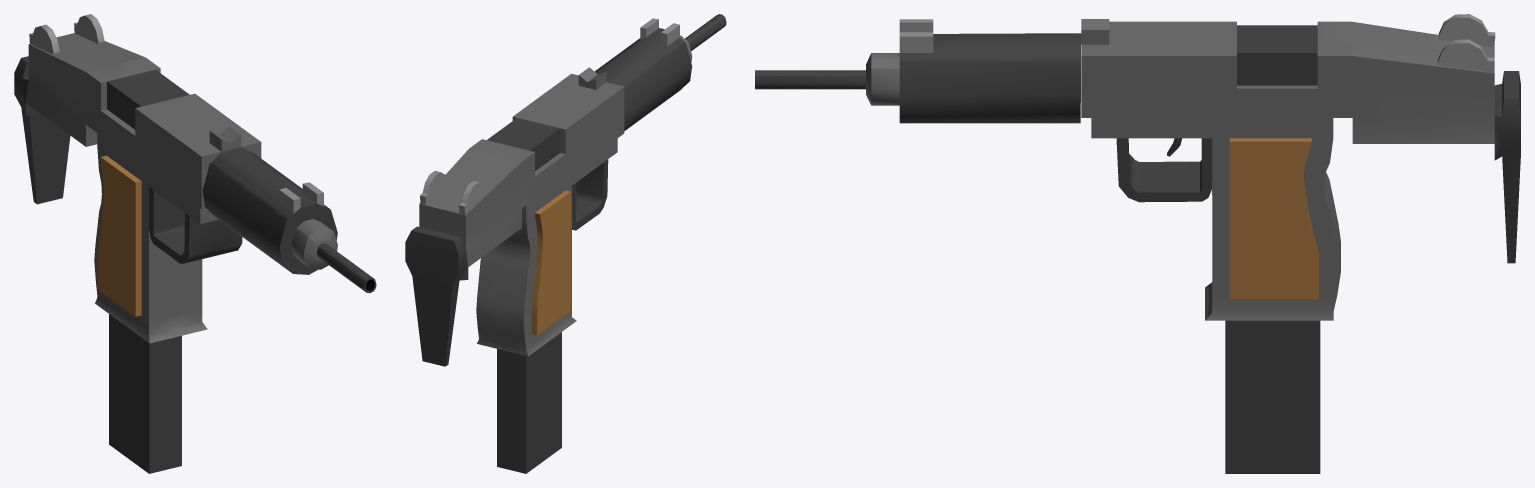
Rendered from 05-Machine-pistol.glb.
3 views of the same model, side by side, from view 1: azimuth 30°, elevation 25°; view 2: azimuth 150°, elevation 25°; view 3: azimuth 270°, elevation 25° (orthographic). The views are drawn at different scales.
Visible parts, largest first — view 1: Machine pistol; view 2: Machine pistol; view 3: Machine pistol.
Boxes of the visible parts, left/top/right/bottom form: Machine pistol: left=14, top=14, right=376, bottom=473; Machine pistol: left=405, top=14, right=726, bottom=473; Machine pistol: left=755, top=14, right=1520, bottom=473.
Bounding box in the file's own units: 0.0579 × 0.3188 × 0.5.
1 material, 1 textured.
